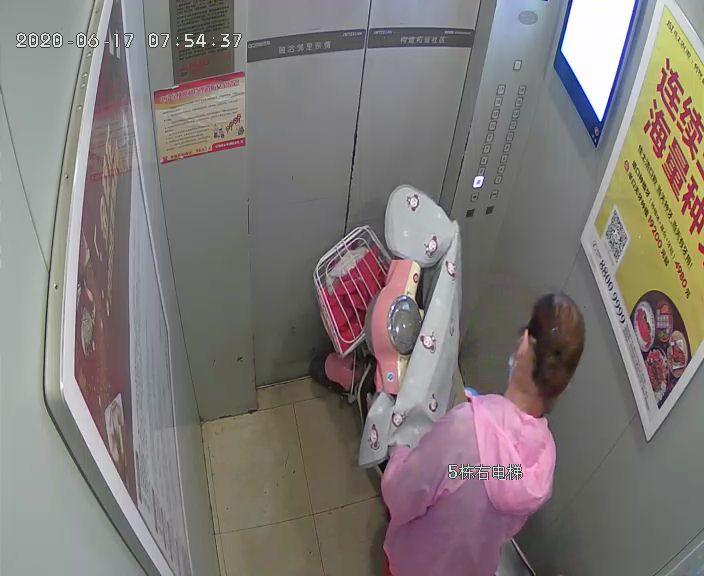Electric-bicycle: (311, 182, 535, 575)
